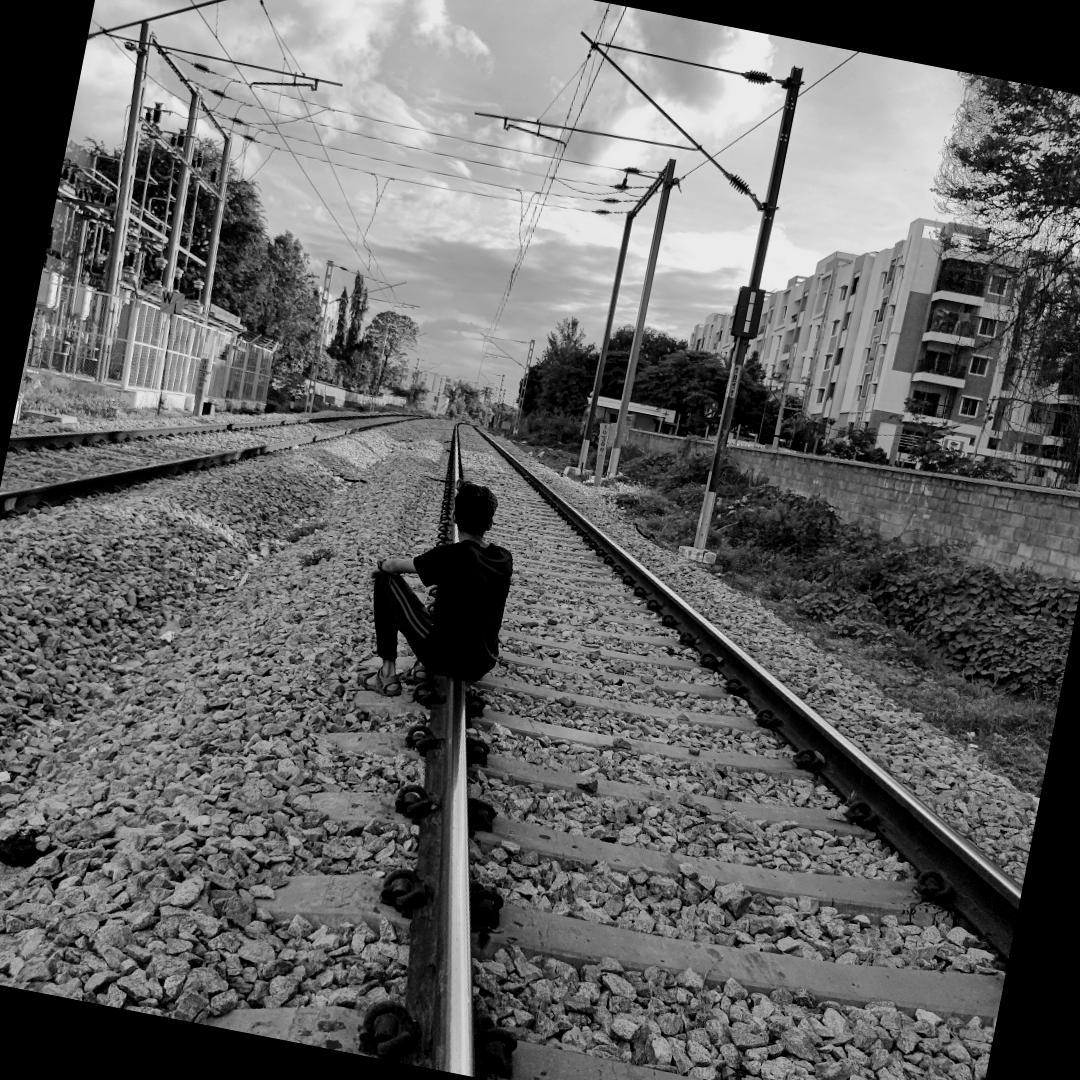sitting: (339, 461, 546, 720)
